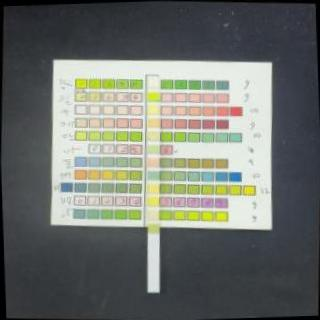mark: (148, 130, 160, 142), (146, 196, 158, 207), (147, 104, 159, 115), (146, 183, 158, 193), (148, 144, 160, 154), (147, 118, 159, 128), (147, 92, 159, 102), (147, 224, 158, 234), (147, 170, 158, 180), (147, 157, 158, 167), (147, 78, 158, 88), (148, 210, 158, 220)
